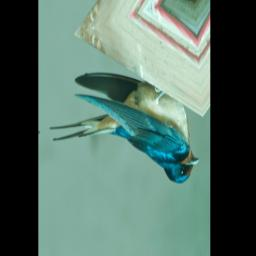Swallow: (46, 36, 201, 227)
